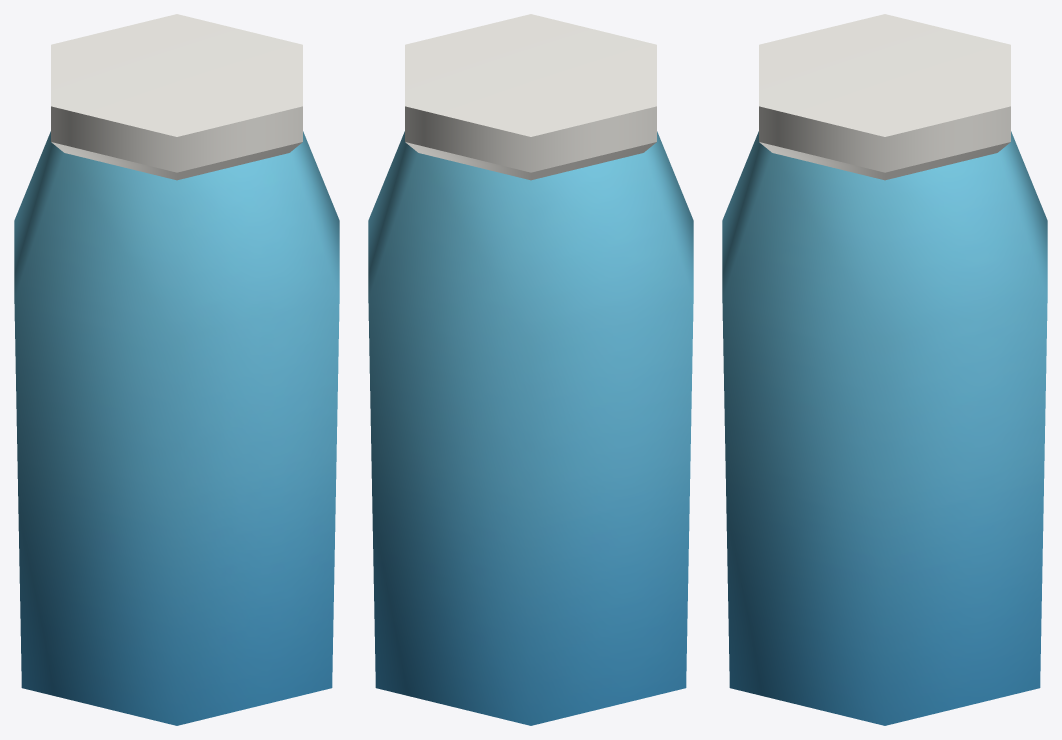
File: SM_Jam_Bottle_2_03.fbx
3 renders of one model, left to right at view 1: azimuth 30°, elevation 25°; view 2: azimuth 150°, elevation 25°; view 3: azimuth 270°, elevation 25°, orthographic.
Parts seen in each view (by area): view 1: SM_Jam_Bottle_2_03; view 2: SM_Jam_Bottle_2_03; view 3: SM_Jam_Bottle_2_03.
Boxes of the visible parts, x1,y1,x2,y2 form: SM_Jam_Bottle_2_03: (14,14,339,725); SM_Jam_Bottle_2_03: (368,14,693,725); SM_Jam_Bottle_2_03: (722,14,1047,725).
Bounding box in the file's own units: 8.55 × 14.46 × 7.4.
